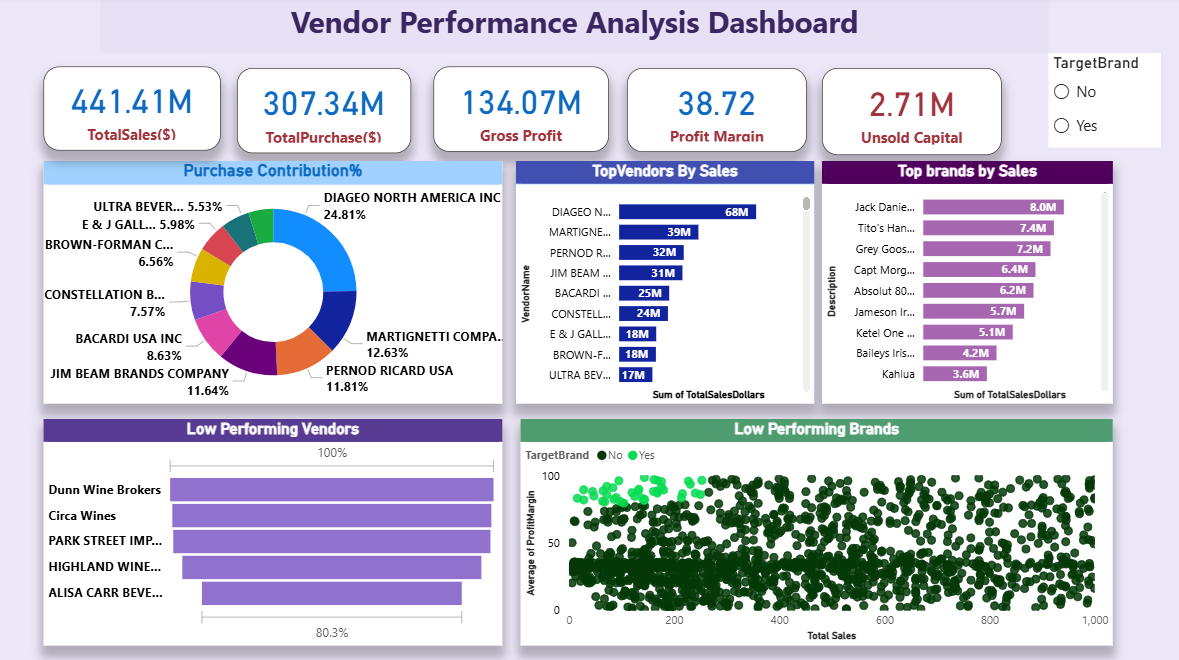

Layout of this report page (visuals, bound fields, positions):
{"tool":"powerbi","page":{"name":"dashborad","canvas":[1280,720],"ordinal":5},"visuals":[{"type":"card","fields":{"Values":["Sum(vendor_sales_summary.TotalPurchaseDollars)"]},"box":[259.1,77.7,187.8,92.3],"z":0},{"type":"card","fields":{"Values":["Sum(vendor_sales_summary.GrossProfit)"]},"box":[471.2,75.9,189.4,92.3],"z":1000},{"type":"card","fields":{"Values":["Avg(vendor_sales_summary.ProfitMargin)"]},"box":[680.1,77.5,194.3,90.7],"z":2000},{"type":"card","fields":{"Values":["Sum(vendor_sales_summary.UnsoldCapital)"]},"box":[890.6,77.7,194.3,93.9],"z":3000},{"type":"donutChart","title":"Purchase Contribution% ","fields":{"Category":["PurchaseContribution.VendorName"],"Y":["Sum(PurchaseContribution.PurchaseContribution%)"]},"box":[50.2,178.1,495.5,262.3],"z":4000},{"type":"barChart","title":"TopVendors By Sales","fields":{"Category":["vendor_sales_summary.VendorName"],"Y":["Sum(vendor_sales_summary.TotalSalesDollars)"]},"box":[560.3,178.1,322.2,262.3],"z":5000},{"type":"barChart","title":"Top brands by Sales","fields":{"Category":["vendor_sales_summary.Description"],"Y":["Sum(vendor_sales_summary.TotalSalesDollars)"]},"box":[890.6,178.1,314.1,262.3],"z":6000},{"type":"funnel","title":"Low Performing Vendors","fields":{"Category":["LowTurnoverVendor.VendorName"],"Y":["Avg(LowTurnoverVendor.Avg StockTurnOver)"]},"box":[50.2,456.6,495.5,244.5],"z":7000},{"type":"scatterChart","title":"Low Performing Brands","fields":{"Category":["BrandPerformance.Description"],"X":["Sum(BrandPerformance.TotalSalesDollars)"],"Y":["Avg(BrandPerformance.ProfitMargin)"],"Series":["BrandPerformance.TargetBrand"]},"box":[565.1,456.6,639.6,244.5],"z":8000},{"type":"card","fields":{"Values":["Sum(vendor_sales_summary.TotalSalesDollars)"]},"box":[50.2,76.1,191.1,90.7],"z":9000},{"type":"textbox","box":[111.7,0,1023.4,61.5],"z":10000},{"type":"listSlicer","fields":{"Values":["BrandPerformance.TargetBrand"]},"box":[1135.1,61.5,121.4,102],"z":11000}]}

Visuals, with their boxes in screenshot pixels (x1, y1, x2, y2), scaled from the page's 1280x720 canvas onto the 1179x660 screenshot:
card - Sum(vendor_sales_summary.TotalPurchaseDollars): <bbox>239, 71, 412, 156</bbox>
card - Sum(vendor_sales_summary.GrossProfit): <bbox>434, 70, 608, 154</bbox>
card - Avg(vendor_sales_summary.ProfitMargin): <bbox>626, 71, 805, 154</bbox>
card - Sum(vendor_sales_summary.UnsoldCapital): <bbox>820, 71, 999, 157</bbox>
"Purchase Contribution% " donutChart: <bbox>46, 163, 503, 404</bbox>
"TopVendors By Sales" barChart: <bbox>516, 163, 813, 404</bbox>
"Top brands by Sales" barChart: <bbox>820, 163, 1110, 404</bbox>
"Low Performing Vendors" funnel: <bbox>46, 419, 503, 643</bbox>
"Low Performing Brands" scatterChart: <bbox>521, 419, 1110, 643</bbox>
card - Sum(vendor_sales_summary.TotalSalesDollars): <bbox>46, 70, 222, 153</bbox>
textbox: <bbox>103, 0, 1046, 56</bbox>
listSlicer - BrandPerformance.TargetBrand: <bbox>1046, 56, 1157, 150</bbox>
